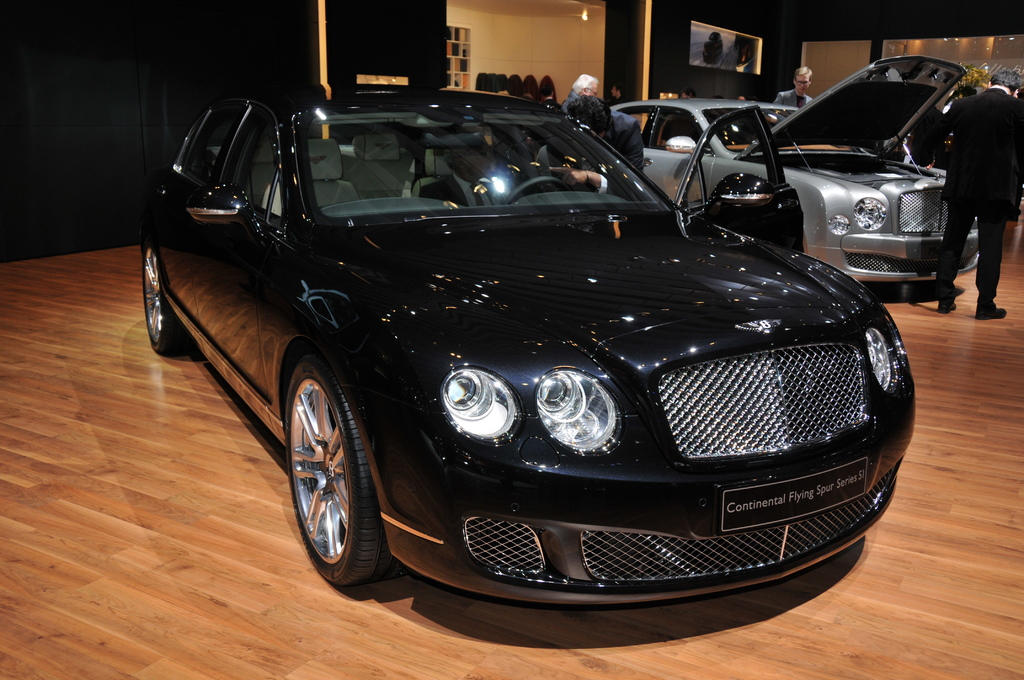Car: (138, 79, 922, 592), (608, 50, 1000, 286)
